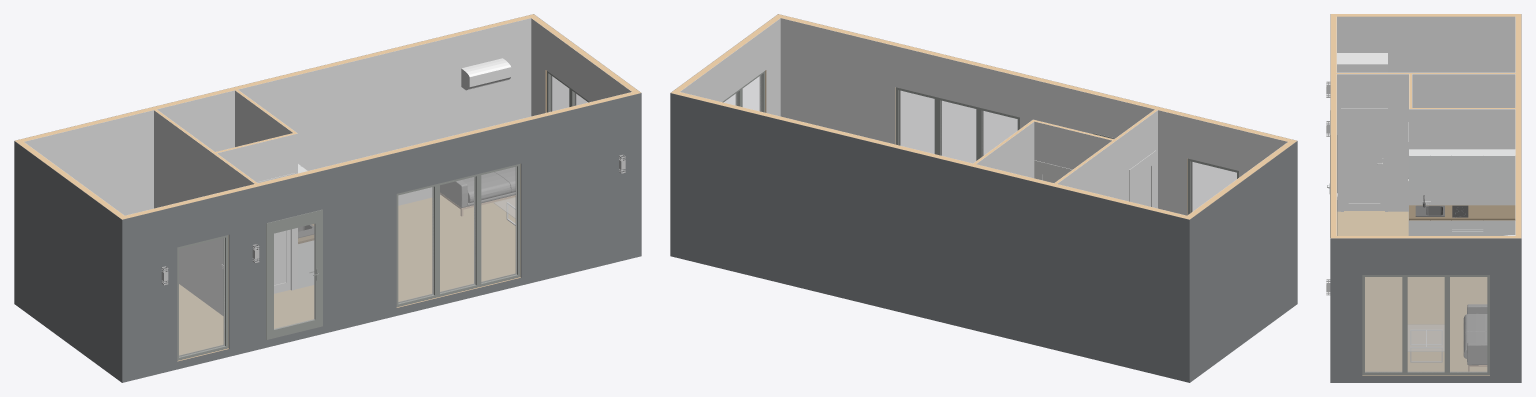
File: paucina@mail.fbx
3 renders of one model, left to right at view 1: azimuth 30°, elevation 25°; view 2: azimuth 150°, elevation 25°; view 3: azimuth 270°, elevation 25°, orthographic. The views are drawn at different scales.
Parts seen in each view (by area): view 1: IfcWall/Part:2370825, IfcWall/Part:2370830, IfcWall/Part:2370828, IfcSlab/Part:2370833, IfcWindow/Aluprof_MB-86-SI_E_Alu_Window-1sash-FIX_ENG_R-000. (×3), IfcWall/Part:2370818, IfcDoor/Simple_vitree_-_03:1000x2100:2370780, IfcWindow/Aluprof_MB-86-SI_E_Alu_Window-1sash-FIX_ENG_R-0004, IfcWindow/Aluprof_MB-86-SI_E_Alu_Window-1sash-FIX_ENG_R-000, IfcWall/Part:2370857, IfcWall/Part:2370821, IfcWall/Part:2370826 (+8 smaller); view 2: IfcWall/Part:2370831, IfcWall/Part:2370824, IfcWall/Part:2370828, IfcWindow/Aluprof_MB-86-SI_E_Alu_Window-1sash-FIX_ENG_R-000. (×3), IfcWall/Part:2370857, IfcWall/Part:2370818, IfcWindow/Aluprof_MB-86-SI_E_Alu_Window-1sash-FIX_ENG_R-0004, IfcWall/Part:2370822, IfcWall/Part:2370826, IfcWall/Part:2370832, IfcWall/Part:2370840, IfcWindow/Aluprof_MB-86-SI_E_Alu_Window-1sash-FIX_ENG_R-000 (+4 smaller); view 3: IfcWall/Part:2370858, IfcWindow/Aluprof_MB-86-SI_E_Alu_Window-1sash-FIX_ENG_R-000. (×3), IfcSlab/Part:2370833, IfcWall/Part:2370827, IfcWall/Part:2370841, IfcWall/Part:2370819, IfcDoor/Simple_vitree_-_03:800x2100mm:2370847, IfcWall/Part:2370843, IfcWall/Part:2370832, IfcWall/Part:2370826, IfcFurnishingElement/Bolia - North Seater Sofa:2 1/2 Seater:, IfcFurnishingElement/Countertop1:Countertop:2414532 (+25 smaller).
Boxes of the visible parts, x1=… form: IfcWall/Part:2370825: x1=122, y1=93, x2=641, y2=382; IfcWall/Part:2370830: x1=24, y1=18, x2=531, y2=215; IfcWall/Part:2370828: x1=14, y1=141, x2=122, y2=382; IfcSlab/Part:2370833: x1=179, y1=195, x2=515, y2=355; IfcWindow/Aluprof_MB-86-SI_E_Alu_Window-1sash-FIX_ENG_R-000. (×3): x1=177, y1=71, x2=571, y2=360; IfcWall/Part:2370818: x1=154, y1=110, x2=254, y2=315; IfcDoor/Simple_vitree_-_03:1000x2100:2370780: x1=266, y1=209, x2=322, y2=339; IfcWindow/Aluprof_MB-86-SI_E_Alu_Window-1sash-FIX_ENG_R-0004: x1=436, y1=174, x2=479, y2=297; IfcWindow/Aluprof_MB-86-SI_E_Alu_Window-1sash-FIX_ENG_R-000: x1=396, y1=184, x2=438, y2=307; IfcWall/Part:2370857: x1=531, y1=18, x2=631, y2=116; IfcWall/Part:2370821: x1=217, y1=133, x2=297, y2=289; IfcWall/Part:2370826: x1=125, y1=90, x2=640, y2=361; IfcWall/Part:2370831: x1=670, y1=93, x2=1189, y2=382; IfcWall/Part:2370824: x1=780, y1=18, x2=1287, y2=215; IfcWall/Part:2370828: x1=1190, y1=141, x2=1297, y2=382; IfcWindow/Aluprof_MB-86-SI_E_Alu_Window-1sash-FIX_ENG_R-000. (×3): x1=740, y1=71, x2=1238, y2=214; IfcWall/Part:2370857: x1=680, y1=18, x2=780, y2=116; IfcWall/Part:2370818: x1=1057, y1=110, x2=1157, y2=208; IfcWindow/Aluprof_MB-86-SI_E_Alu_Window-1sash-FIX_ENG_R-0004: x1=936, y1=97, x2=979, y2=162; IfcWall/Part:2370822: x1=1034, y1=121, x2=1111, y2=169; IfcWall/Part:2370826: x1=775, y1=14, x2=1291, y2=214; IfcWall/Part:2370832: x1=671, y1=90, x2=1192, y2=219; IfcWall/Part:2370840: x1=976, y1=122, x2=1034, y2=178; IfcWindow/Aluprof_MB-86-SI_E_Alu_Window-1sash-FIX_ENG_R-000: x1=978, y1=107, x2=1019, y2=159; IfcWall/Part:2370858: x1=1330, y1=238, x2=1521, y2=382; IfcWindow/Aluprof_MB-86-SI_E_Alu_Window-1sash-FIX_ENG_R-000. (×3): x1=1362, y1=275, x2=1489, y2=375; IfcSlab/Part:2370833: x1=1337, y1=211, x2=1487, y2=371; IfcWall/Part:2370827: x1=1337, y1=16, x2=1515, y2=72; IfcWall/Part:2370841: x1=1409, y1=109, x2=1515, y2=205; IfcWall/Part:2370819: x1=1337, y1=74, x2=1408, y2=211; IfcDoor/Simple_vitree_-_03:800x2100mm:2370847: x1=1341, y1=108, x2=1387, y2=211; IfcWall/Part:2370843: x1=1412, y1=74, x2=1515, y2=107; IfcWall/Part:2370832: x1=1515, y1=14, x2=1521, y2=238; IfcWall/Part:2370826: x1=1330, y1=16, x2=1336, y2=238; IfcFurnishingElement/Bolia - North Seater Sofa:2 1/2 Seater:: x1=1463, y1=304, x2=1487, y2=371; IfcFurnishingElement/Countertop1:Countertop:2414532: x1=1409, y1=205, x2=1515, y2=220.
Size of the model in its own units: 1000 by 300 by 368.
